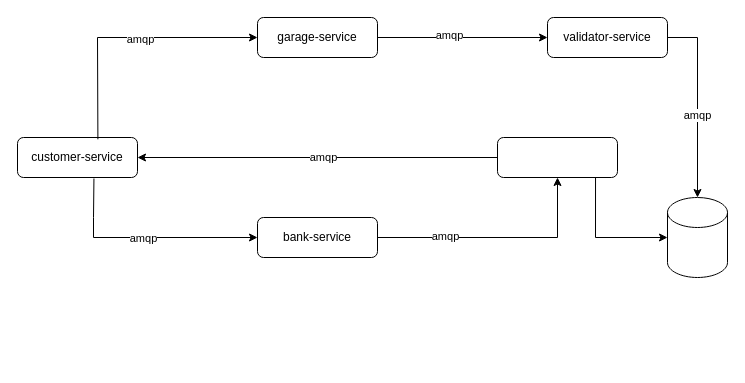
Some shapes in this 745 by 383 pixel diagram are drawn without their labels. Each missing label, with the centre of its shape:
KVStore: point 697,237
payment-service: point 557,157
